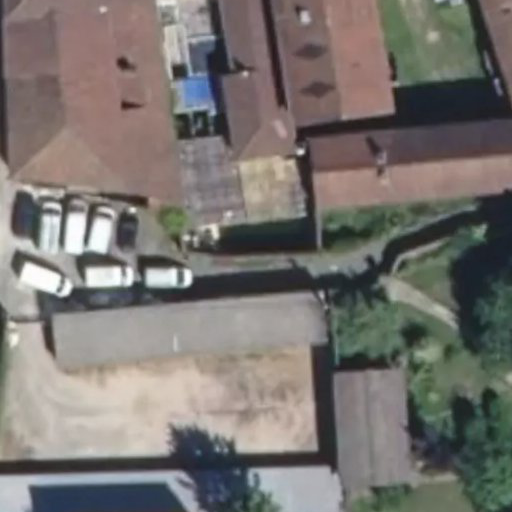pool: (198, 228, 313, 255)
